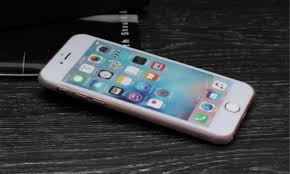mobil: (38, 31, 258, 146)
